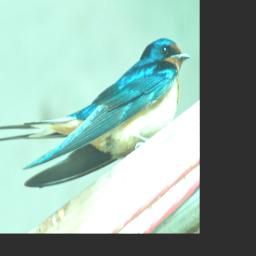Swallow: (0, 36, 191, 190)
